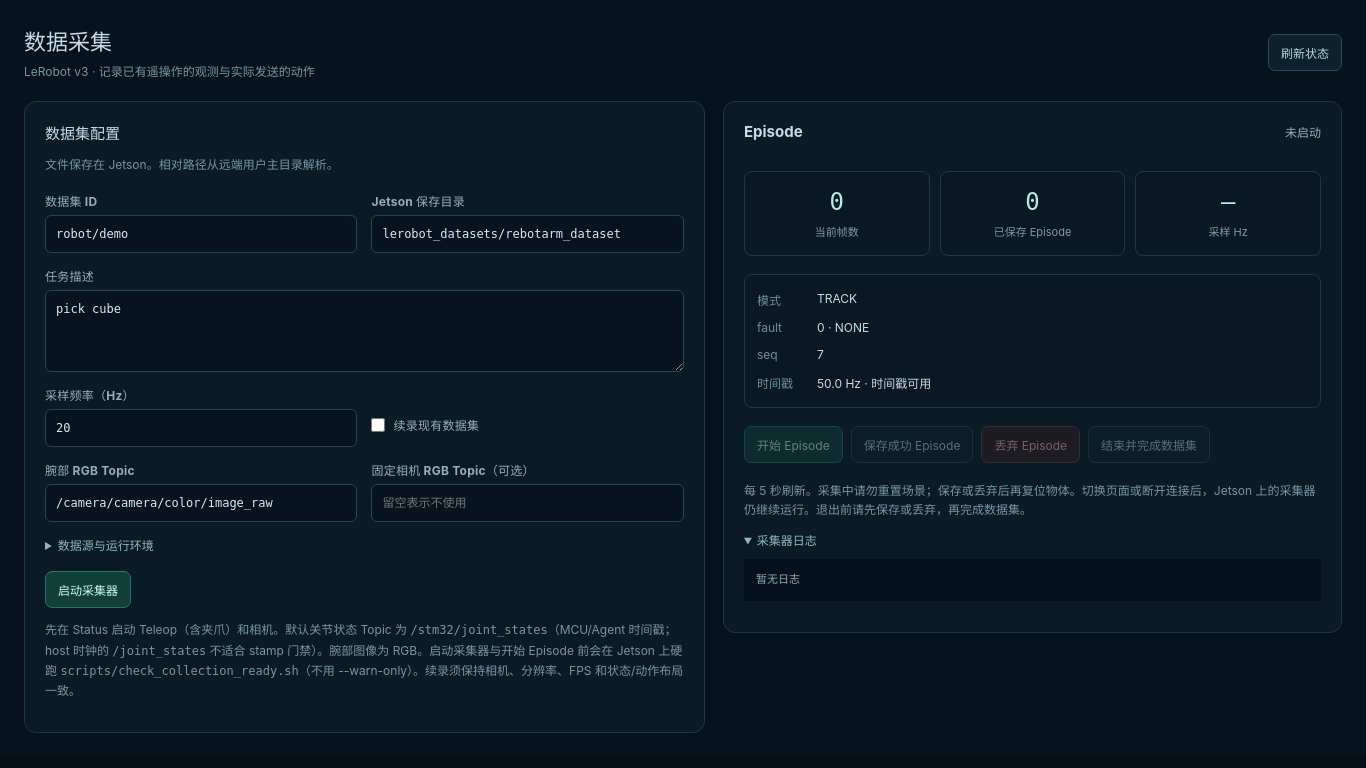
Test: DataCollectionPage › launches, records, saves and finalizes with distinct controls
What coordinates should you click on to do the following:
click the button "启动采集器"
I would click on:
 (88, 590)
Its box is x1=45 y1=571 x2=131 y2=608.
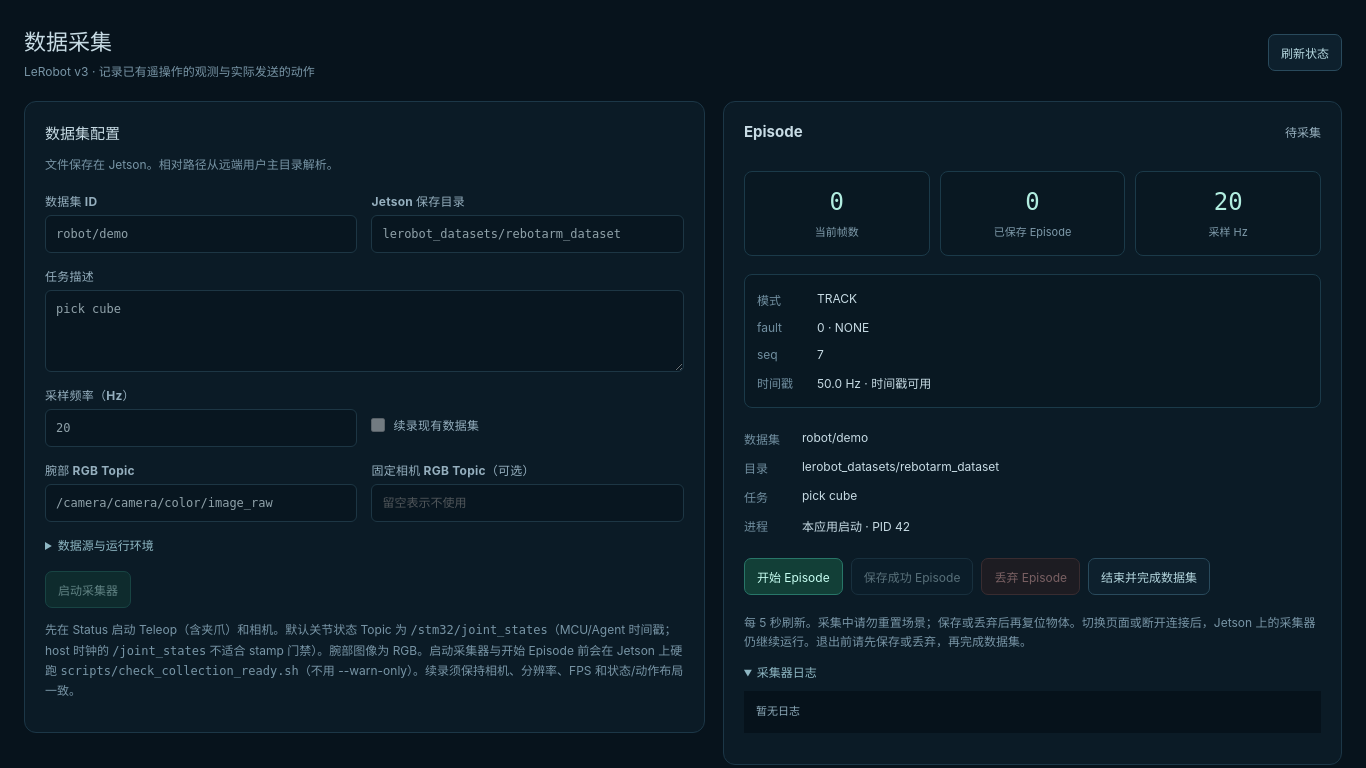
Expected: the text box labelled "任务描述" is disabled, x1=45 y1=290 x2=684 y2=372
What coordinates should you click on to do the following:
click the button "开始 Episode"
I would click on:
 (793, 576)
Its box is x1=744 y1=558 x2=843 y2=595.
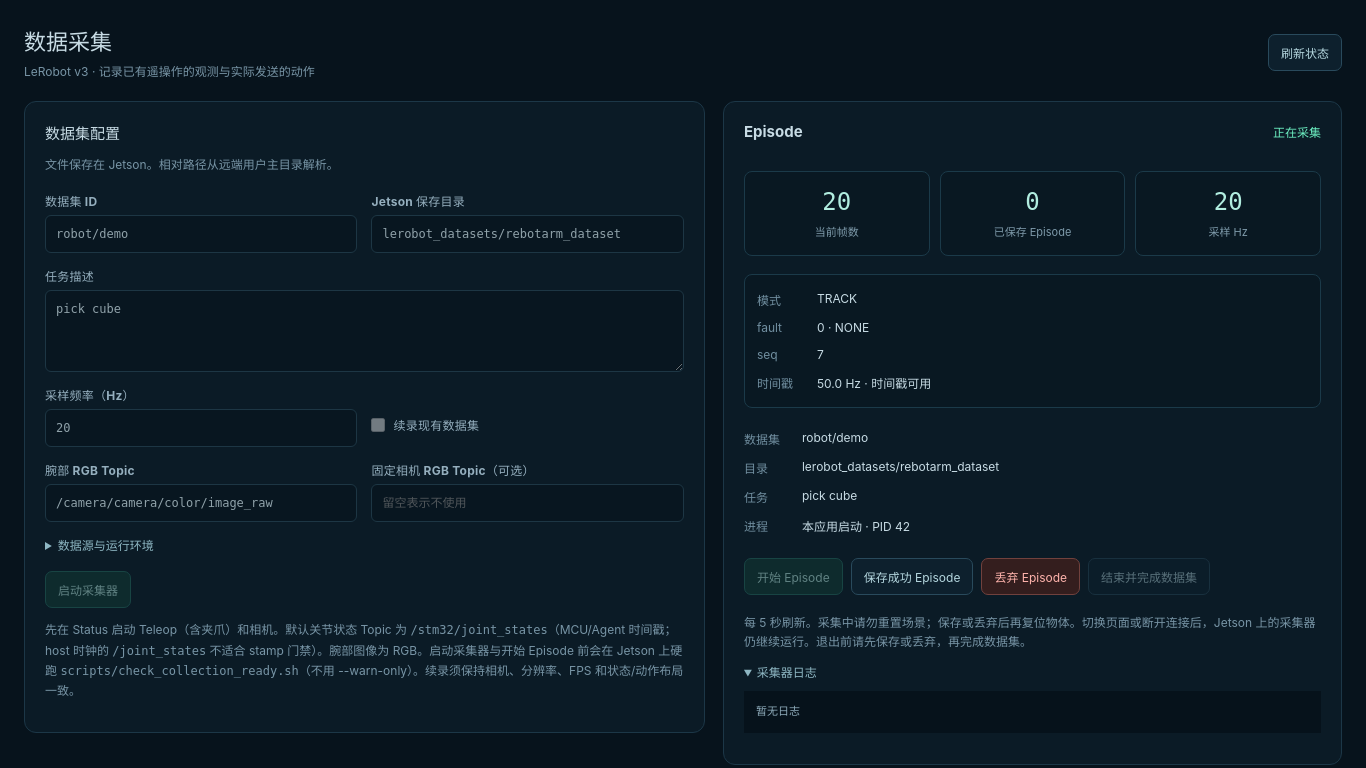
Now the text "正在采集" is shown, box x1=1273 y1=123 x2=1321 y2=140
Now the button "结束并完成数据集" is disabled, box x1=1088 y1=558 x2=1210 y2=595
What coordinates should you click on to do the following:
click the button "保存成功 Episode"
I would click on:
 (912, 576)
Its box is x1=851 y1=558 x2=973 y2=595.
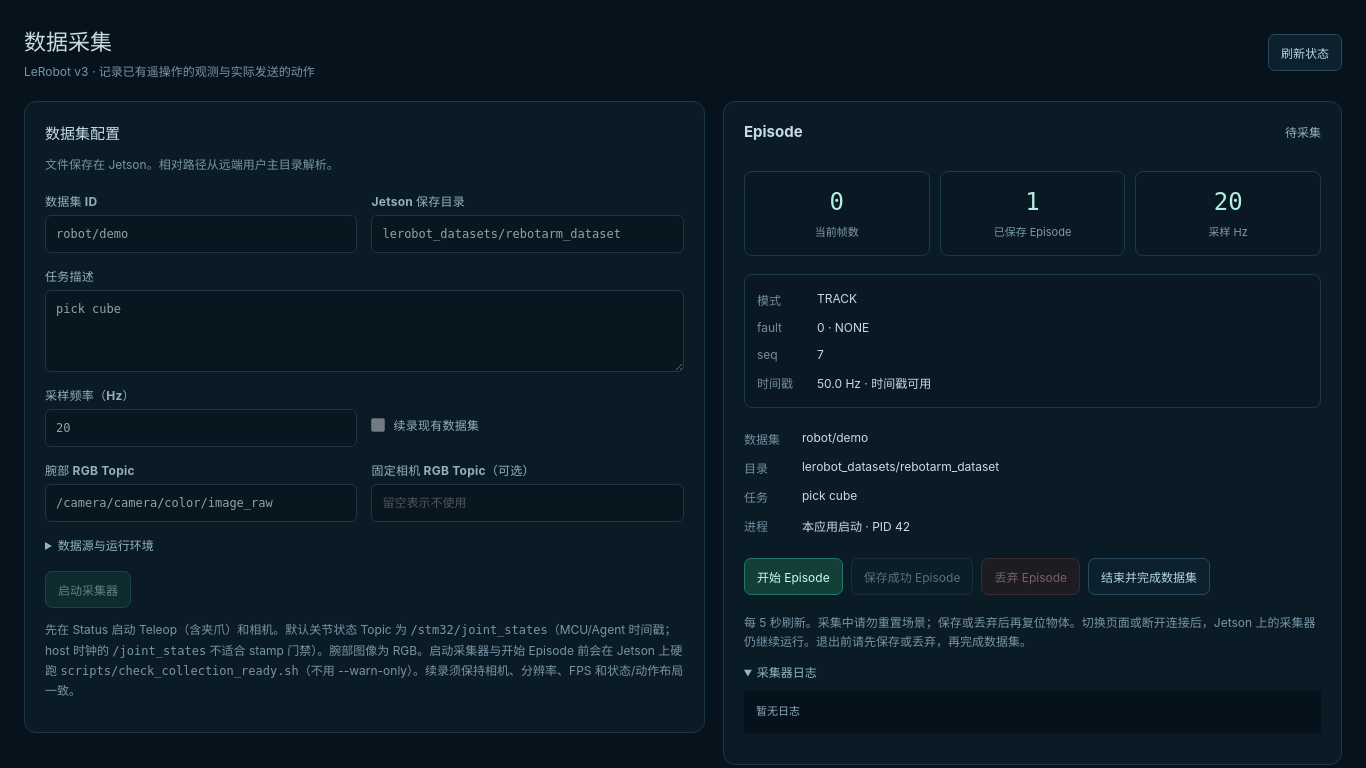
What coordinates should you click on to do the following:
click the button "结束并完成数据集"
I would click on:
 (1149, 576)
Its box is x1=1088 y1=558 x2=1210 y2=595.
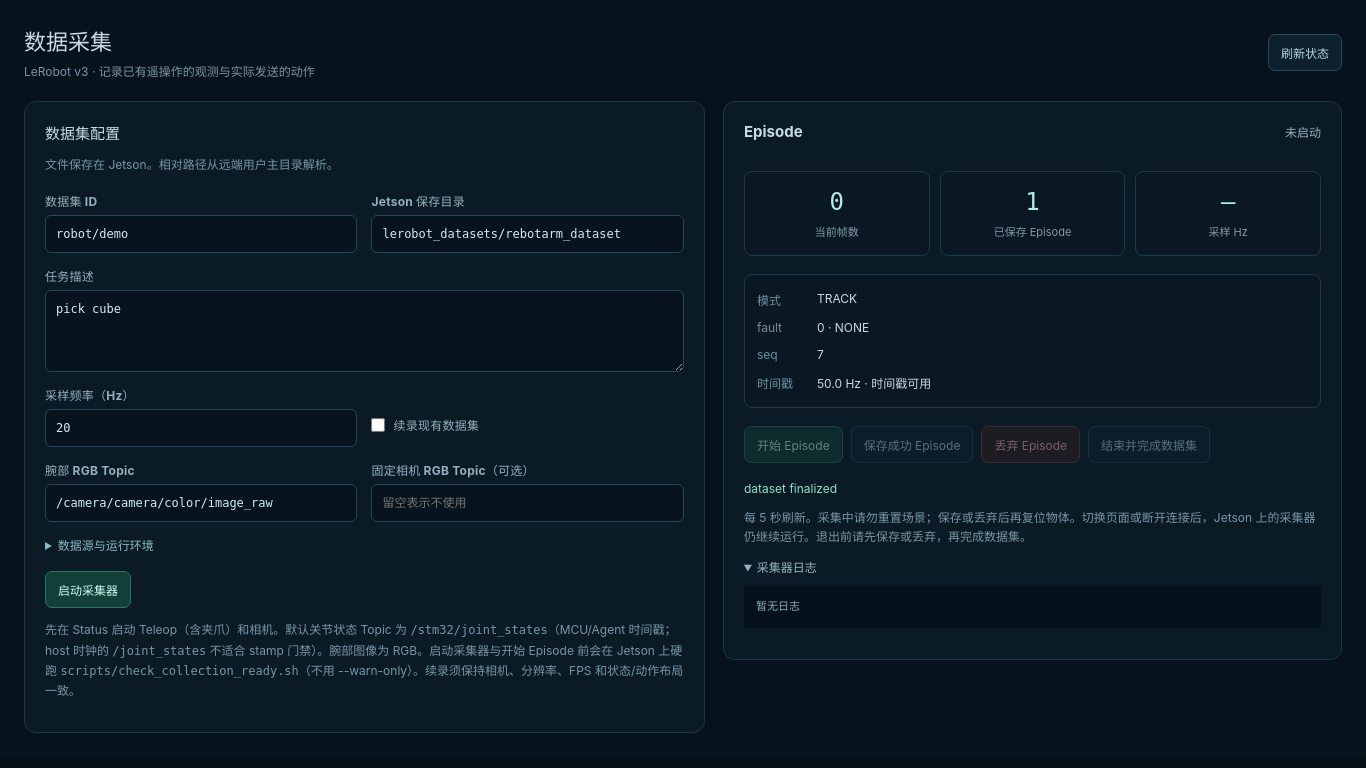
Expected: the text box labelled "任务描述" is enabled, x1=45 y1=290 x2=684 y2=372
Now the text "dataset finalized" is shown, box x1=744 y1=481 x2=837 y2=496
